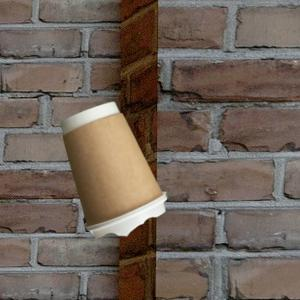cup: (60, 102, 167, 235)
